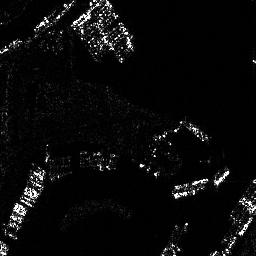ship: (170, 178, 208, 199), (179, 120, 210, 142)
